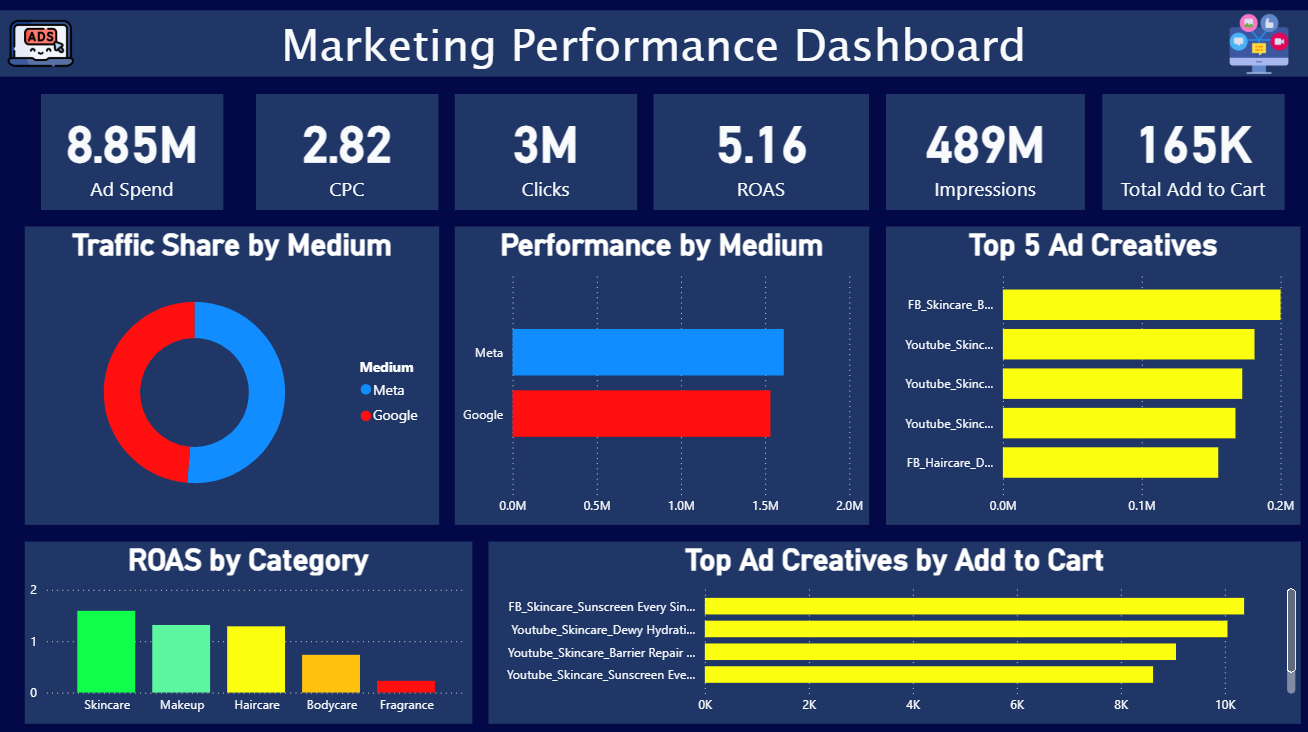

The dashboard page shown, as its layout file describes it:
{"tool":"powerbi","page":{"name":"Marketing Performance Dashboard","canvas":[1280,720],"ordinal":3},"visuals":[{"type":"card","fields":{"Values":["KPI_Measures.Ad Spend"]},"box":[48,96,176,112],"z":0},{"type":"card","fields":{"Values":["KPI_Measures.ROAS"]},"box":[640,96,208,112],"z":1000},{"type":"card","fields":{"Values":["KPI_Measures.Clicks"]},"box":[448,96,176,112],"z":2000},{"type":"card","fields":{"Values":["KPI_Measures.Impressions"]},"box":[864,96,192,112],"z":3000},{"type":"card","fields":{"Values":["KPI_Measures.Total Add to Cart"]},"box":[1072,96,176,112],"z":4000},{"type":"card","fields":{"Values":["KPI_Measures.Title 4"]},"box":[0,16,1280,64],"z":5000},{"type":"donutChart","title":"Traffic Share by Medium","fields":{"Category":["Ad_Campaign_Data.Medium"],"Y":["KPI_Measures.Clicks"]},"box":[32,224,400,288],"z":6000},{"type":"clusteredBarChart","title":"Performance by Medium","fields":{"Y":["KPI_Measures.Clicks"],"Category":["Ad_Campaign_Data.Medium"]},"box":[448,224,400,288],"z":7000},{"type":"clusteredBarChart","title":"Top 5 Ad Creatives","fields":{"Category":["Ad_Campaign_Data.Ad_Description"],"Y":["KPI_Measures.Clicks"]},"box":[864,224,400,288],"z":8000},{"type":"clusteredColumnChart","title":"ROAS by Category","fields":{"Y":["KPI_Measures.ROAS"],"Category":["Fact_All_Sales.Category"]},"box":[32,528,432,176],"z":9000},{"type":"clusteredBarChart","title":"Top Ad Creatives by Add to Cart","fields":{"Y":["KPI_Measures.Total Add to Cart"],"Category":["Ad_Campaign_Data.Ad_Description"]},"box":[480,528,784,176],"z":10000},{"type":"card","fields":{"Values":["KPI_Measures.CPC"]},"box":[256,96,176,112],"z":11000},{"type":"image","box":[0,16,96,64],"z":11001},{"type":"image","box":[1168,16,112,64],"z":11002}]}

Visuals, with their boxes in screenshot pixels (x1, y1, x2, y2), scaled from the page's 1280x720 canvas onto the 1308x732 screenshot:
card - KPI_Measures.Ad Spend: detection(49, 98, 229, 211)
card - KPI_Measures.ROAS: detection(654, 98, 867, 211)
card - KPI_Measures.Clicks: detection(458, 98, 638, 211)
card - KPI_Measures.Impressions: detection(883, 98, 1079, 211)
card - KPI_Measures.Total Add to Cart: detection(1095, 98, 1275, 211)
card - KPI_Measures.Title 4: detection(0, 16, 1307, 81)
"Traffic Share by Medium" donutChart: detection(33, 228, 441, 521)
"Performance by Medium" clusteredBarChart: detection(458, 228, 867, 521)
"Top 5 Ad Creatives" clusteredBarChart: detection(883, 228, 1292, 521)
"ROAS by Category" clusteredColumnChart: detection(33, 537, 474, 716)
"Top Ad Creatives by Add to Cart" clusteredBarChart: detection(491, 537, 1292, 716)
card - KPI_Measures.CPC: detection(262, 98, 441, 211)
image: detection(0, 16, 98, 81)
image: detection(1194, 16, 1307, 81)
